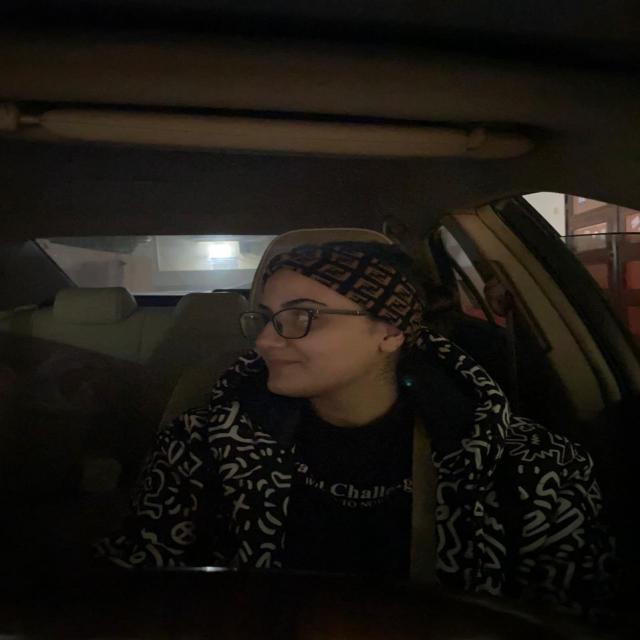LeftRight: (234, 254, 404, 397)
